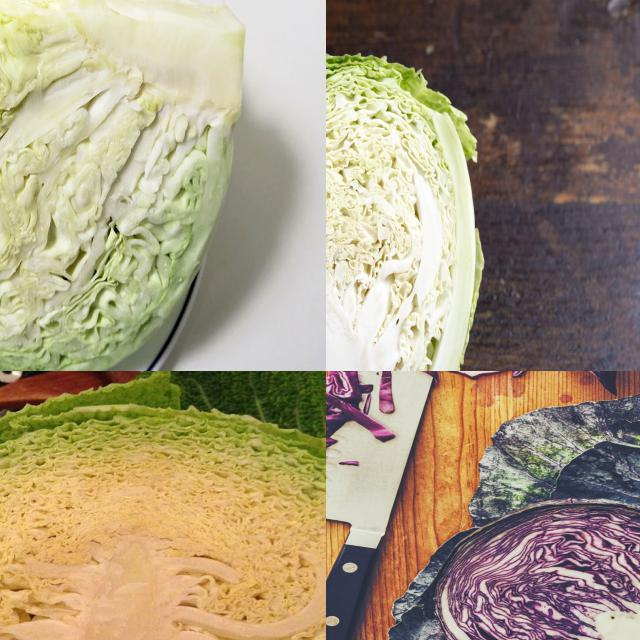cabbage: (0, 0, 251, 370), (0, 406, 325, 639), (326, 0, 491, 370), (435, 497, 639, 639)
